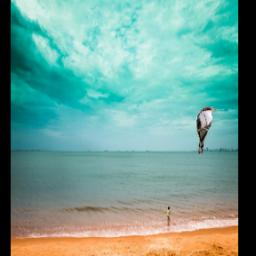Cuckoo: (196, 107, 217, 155)
